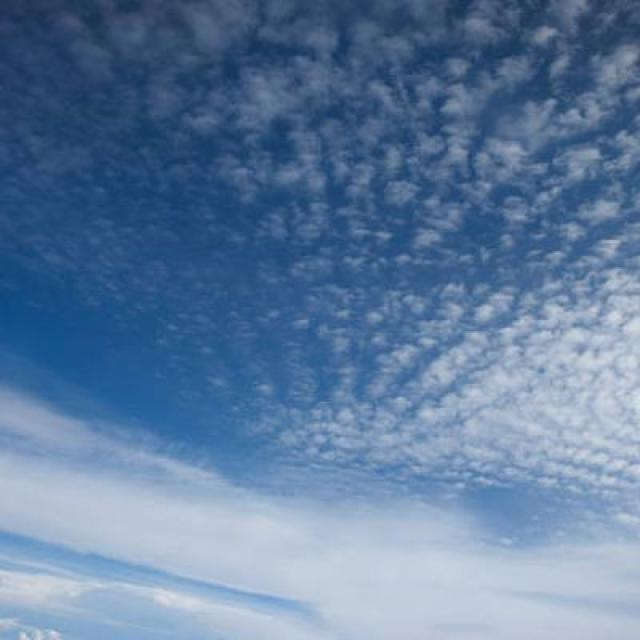Cc: (18, 20, 640, 613)
